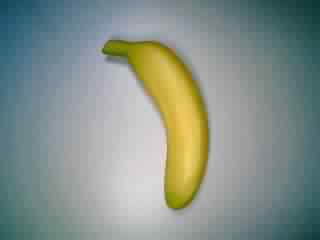banana: (99, 34, 214, 213)
